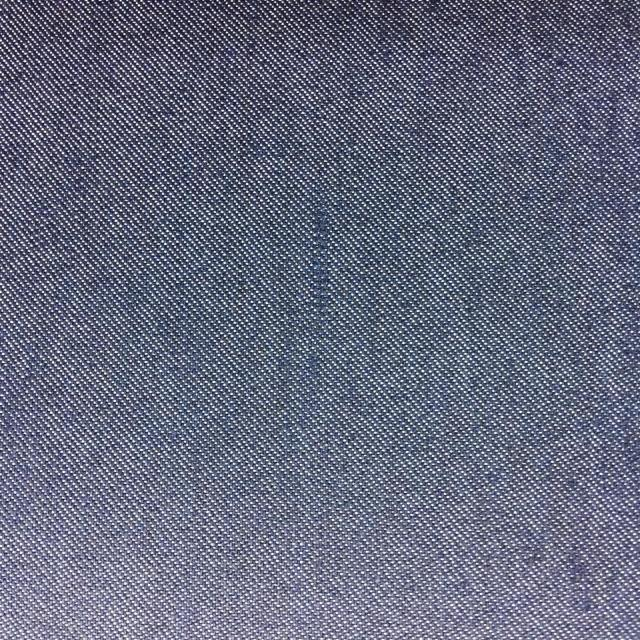Line: (308, 205, 328, 326)
